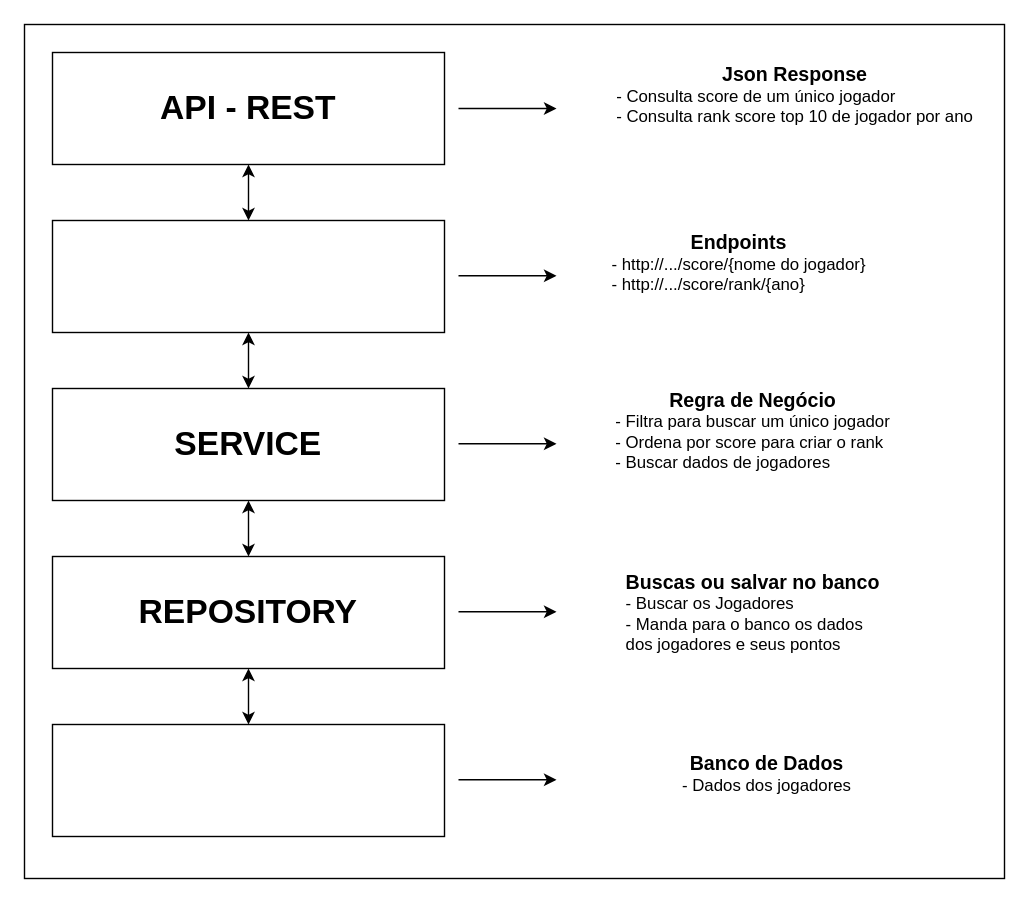
The diagram is 1029 pixels wide and 903 high, and some of its shapes have lost their labels. Each missing label, with the box of its shape:
CONTROLLERS: (51, 219, 444, 332)
DATABASE OR (EXTERNAL REPOSITORY): (51, 723, 444, 836)
